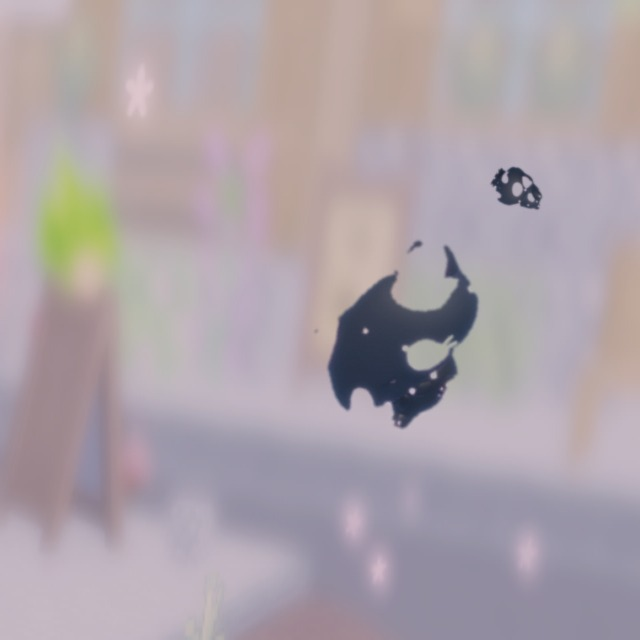urso_preto: (259, 187, 549, 486), (483, 158, 556, 225)
